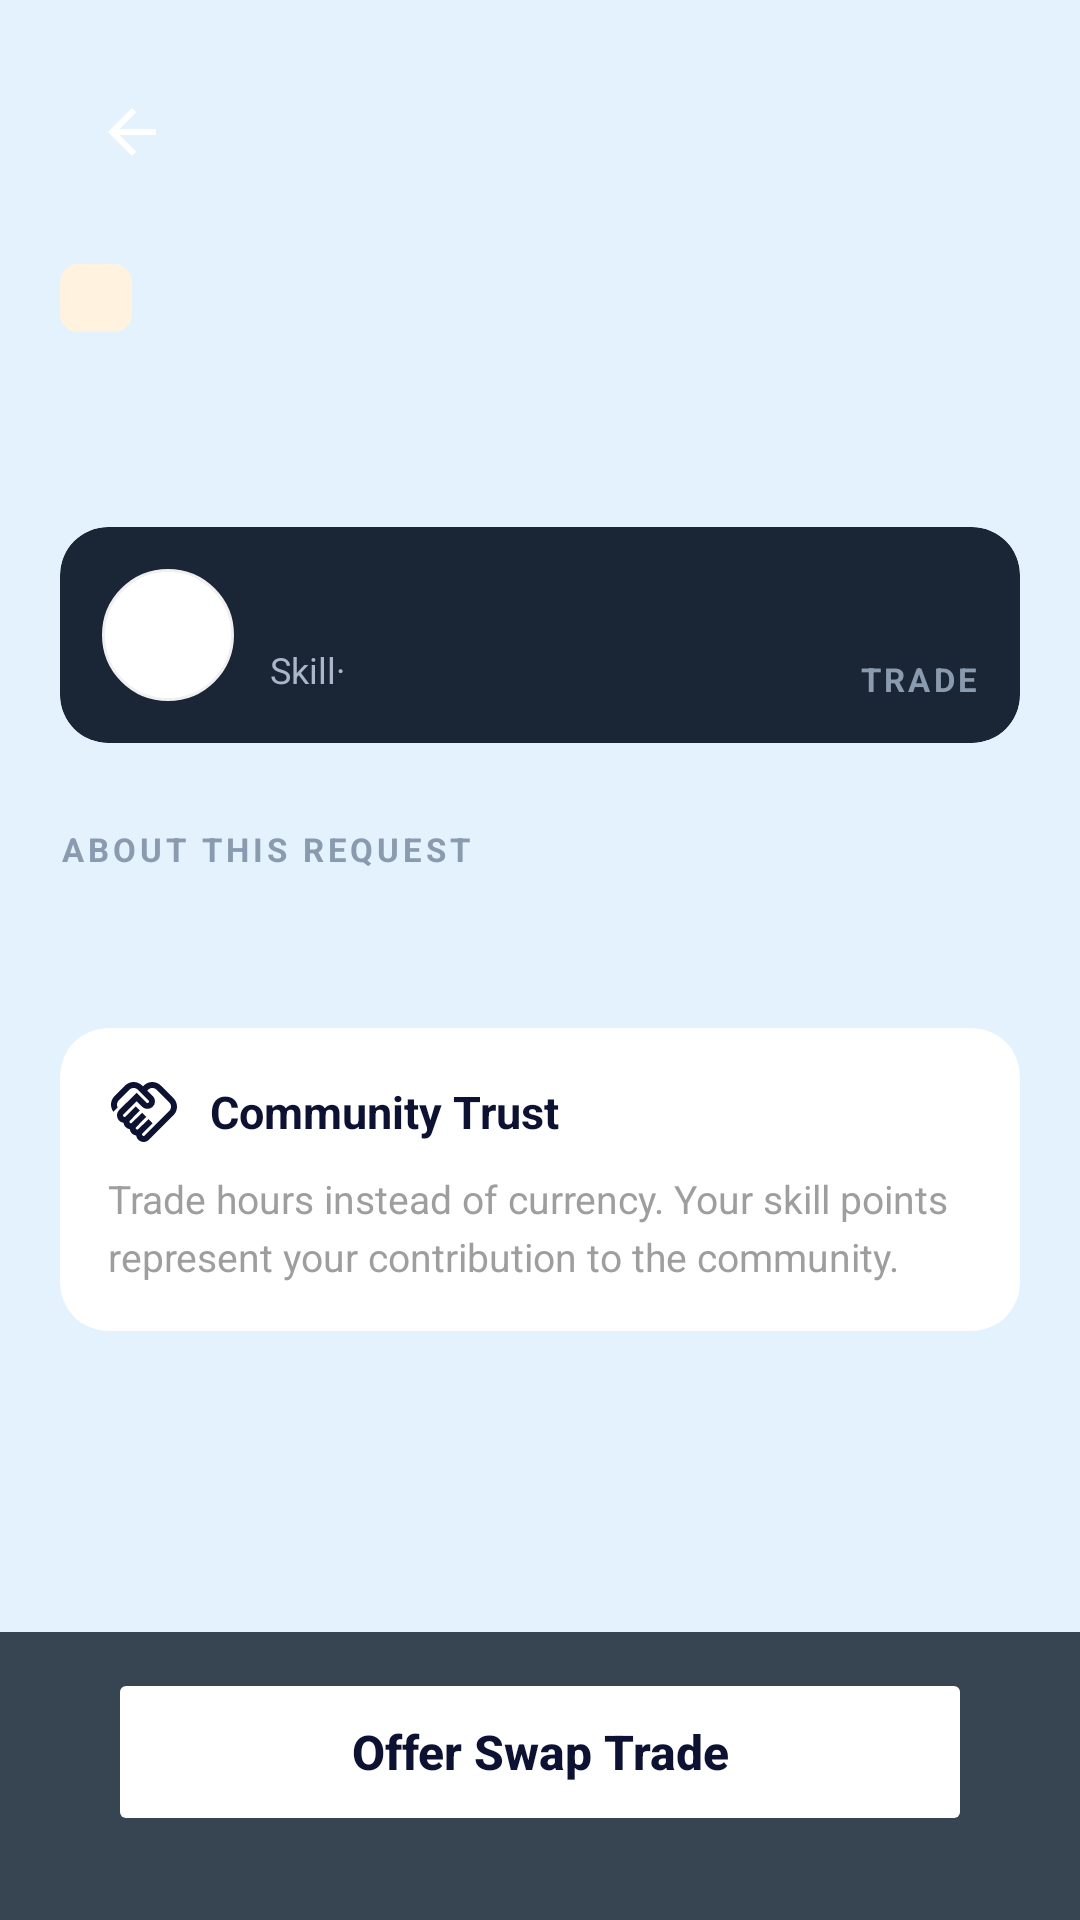

Icon click points for this 1080×1920 phone screenshot, format [x,y]:
Go back: [132,132]
